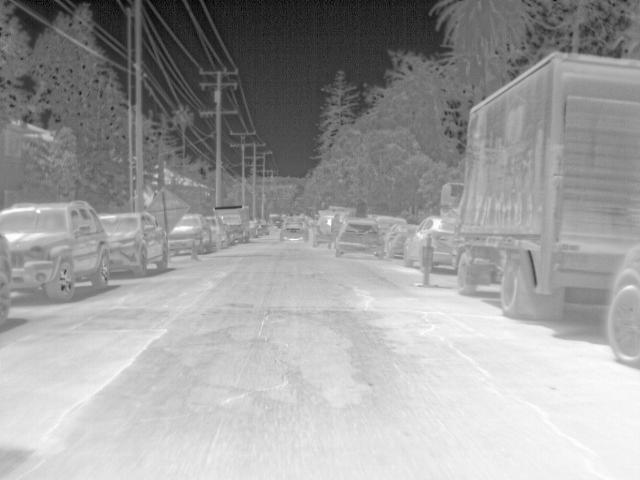car: (1, 198, 111, 304), (93, 211, 167, 280), (602, 248, 638, 370), (403, 213, 458, 268), (334, 219, 385, 260), (170, 213, 213, 255), (383, 224, 418, 258), (198, 214, 227, 248), (276, 215, 309, 242), (313, 212, 333, 246)
person: (325, 210, 341, 249)
